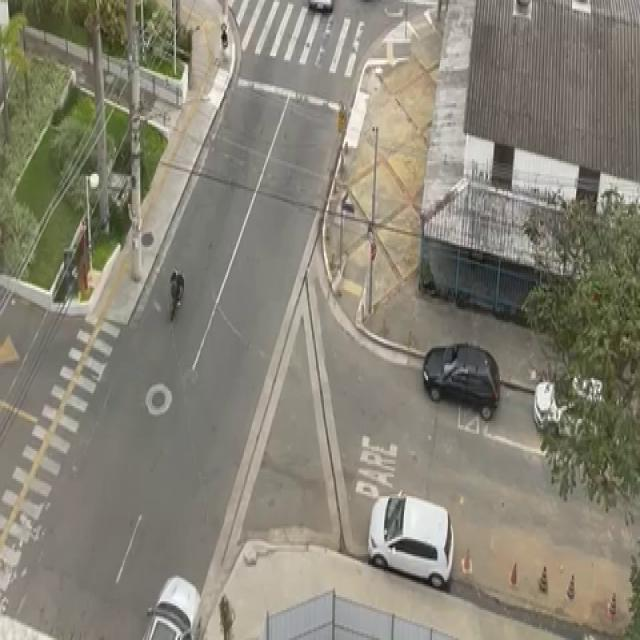car: (360, 490, 459, 594), (418, 338, 509, 424)
motorbike: (164, 261, 191, 327)
